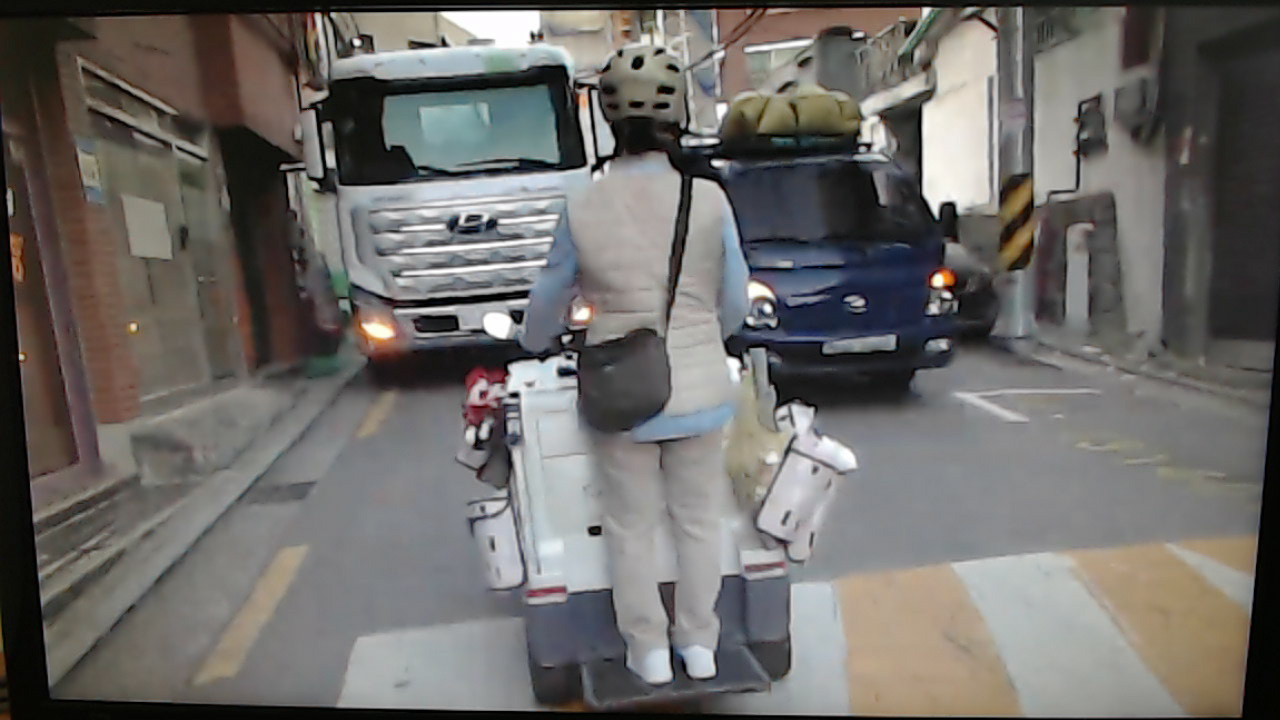Yakurut: (526, 39, 791, 702)
